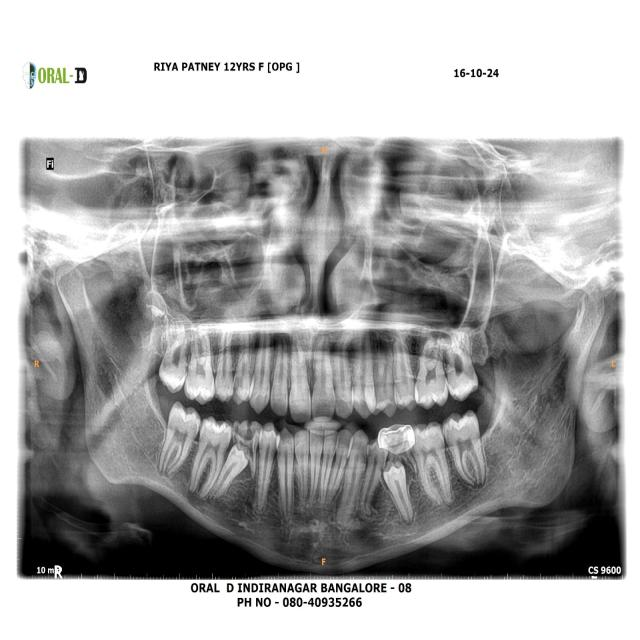Premolars: (360, 439, 389, 522)
